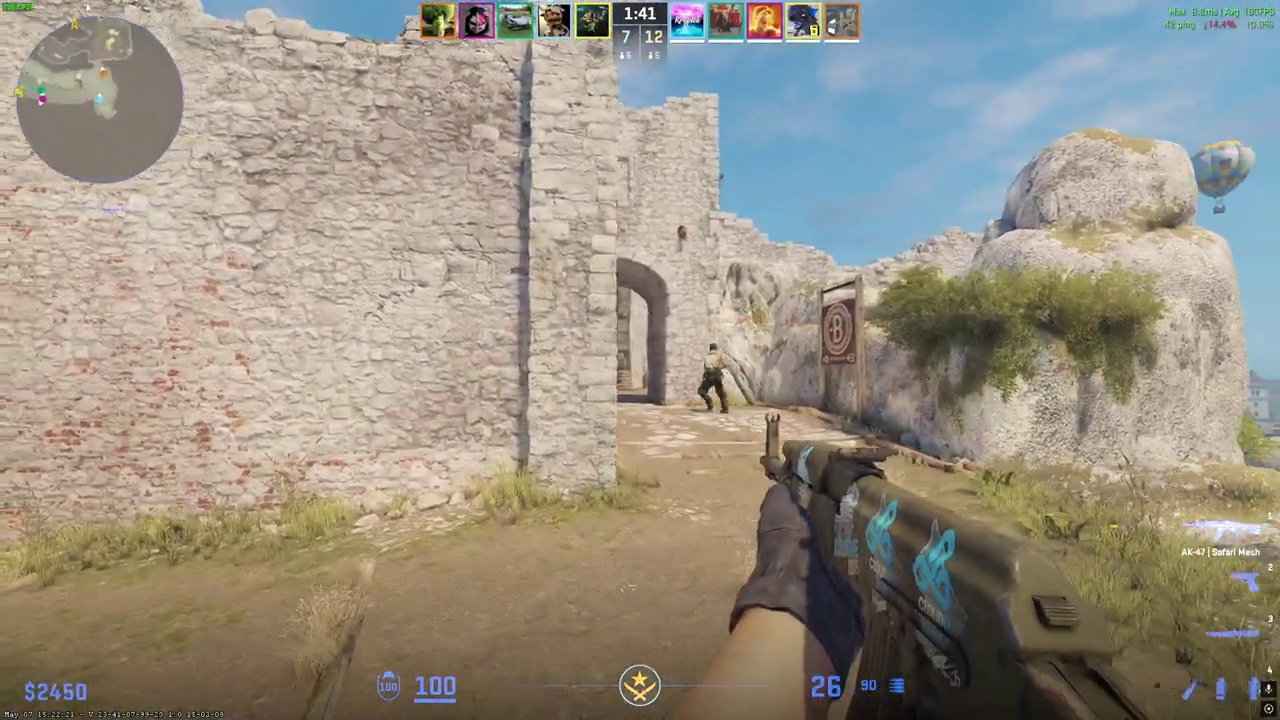Terrorist: (696, 342, 731, 413)
